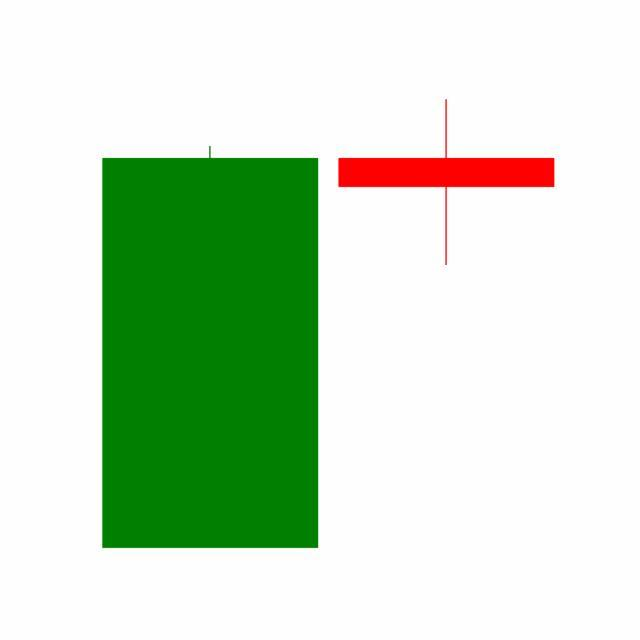Spinning Top: (328, 97, 566, 268)
